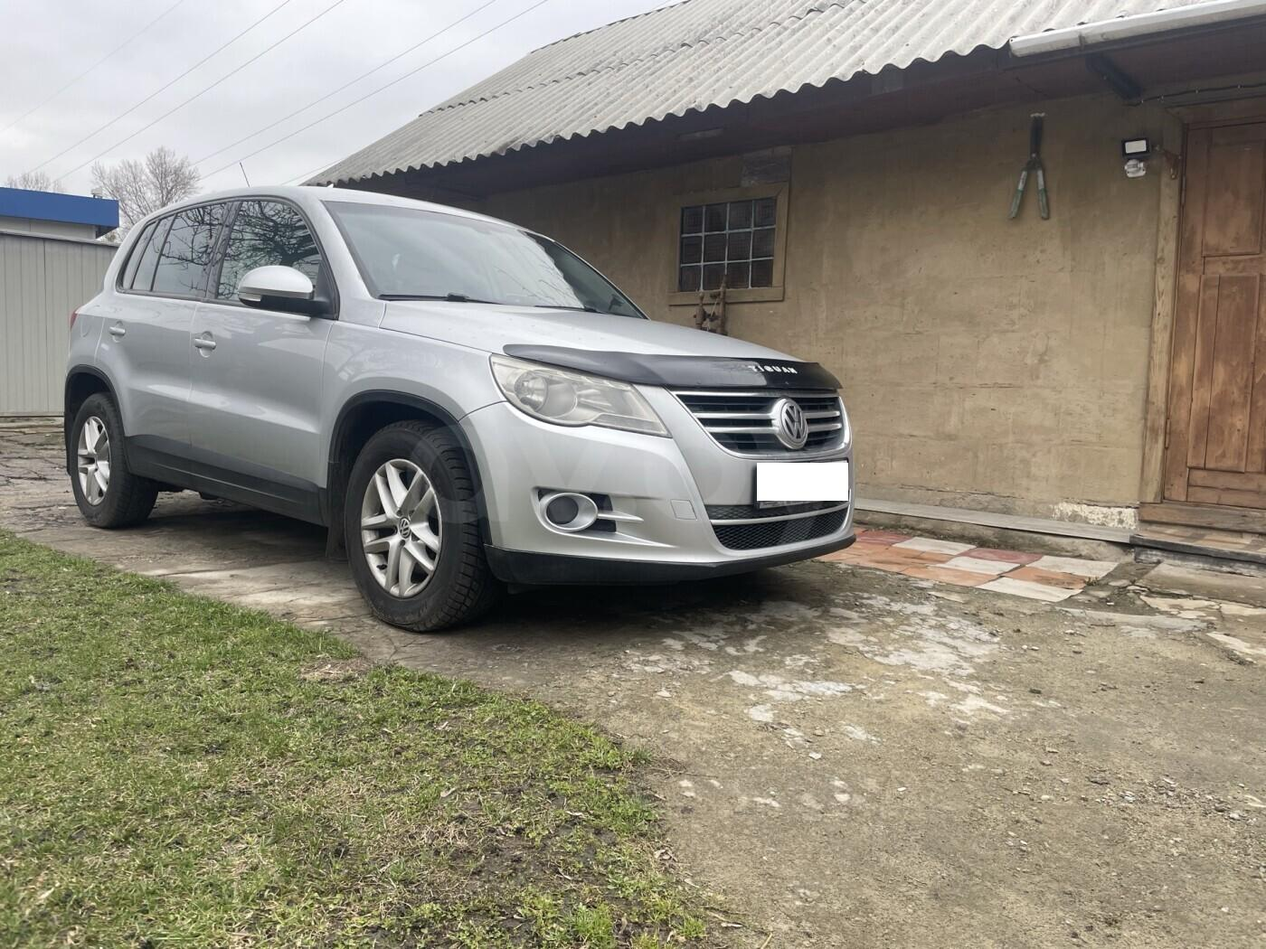Tiguan_2007-2011: (62, 185, 867, 638)
